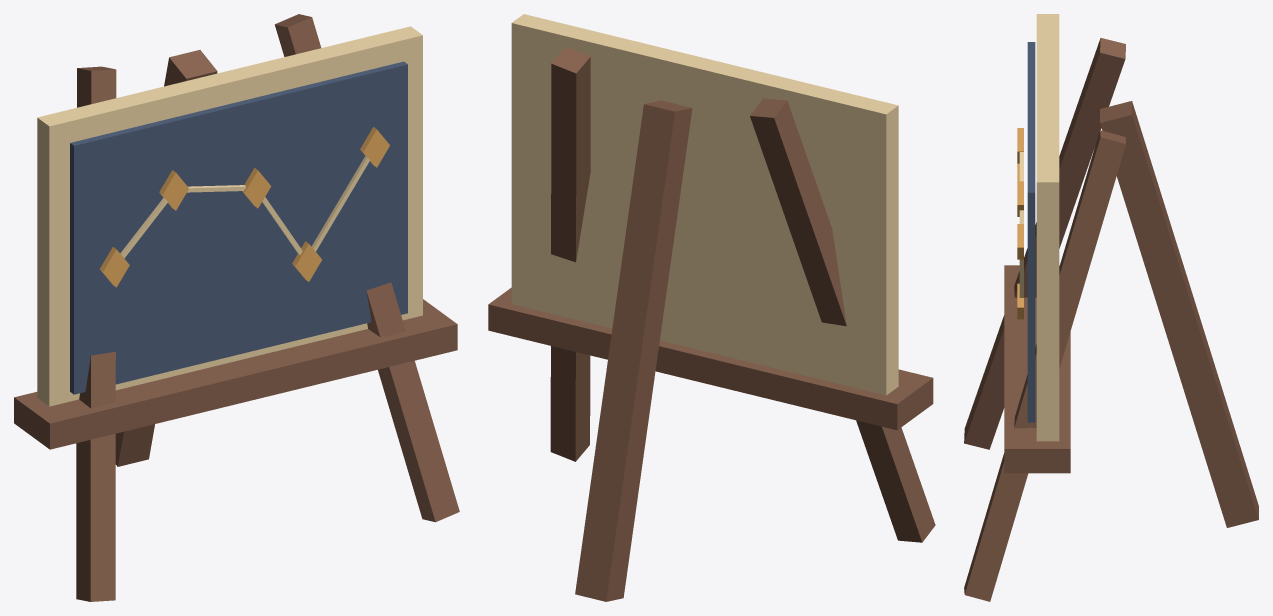
Rendered from star_chart.glb.
The picture shows the model from 3 angles, left to right: view 1: azimuth 30°, elevation 25°; view 2: azimuth 150°, elevation 25°; view 3: azimuth 270°, elevation 25°; orthographic projection. The views are drawn at different scales.
Parts seen in each view (by area): view 1: sky_print, chart_back, easel_leg (×2), map_ledge, star (×5), rear_support, constellation; view 2: chart_back, easel_leg (×2), rear_support, map_ledge; view 3: easel_leg (×2), rear_support, chart_back, map_ledge, sky_print.
Part boxes in pixels (box(x1,y1,x2,y2)): sky_print: box(70, 61, 407, 394); chart_back: box(37, 26, 422, 406); easel_leg (×2): box(76, 14, 459, 601); map_ledge: box(14, 299, 457, 449); star (×5): box(100, 127, 389, 287); rear_support: box(115, 50, 217, 466); constellation: box(311, 156, 369, 251); chart_back: box(511, 14, 898, 395); easel_leg (×2): box(550, 46, 935, 542); rear_support: box(575, 100, 692, 601); map_ledge: box(488, 287, 933, 430); easel_leg (×2): box(964, 38, 1125, 601); rear_support: box(1100, 101, 1258, 527); chart_back: box(1036, 14, 1059, 441); map_ledge: box(1004, 265, 1070, 473); sky_print: box(1027, 42, 1035, 422).
Size of the model in its own units: 1.44 by 1.59 by 0.9762.
